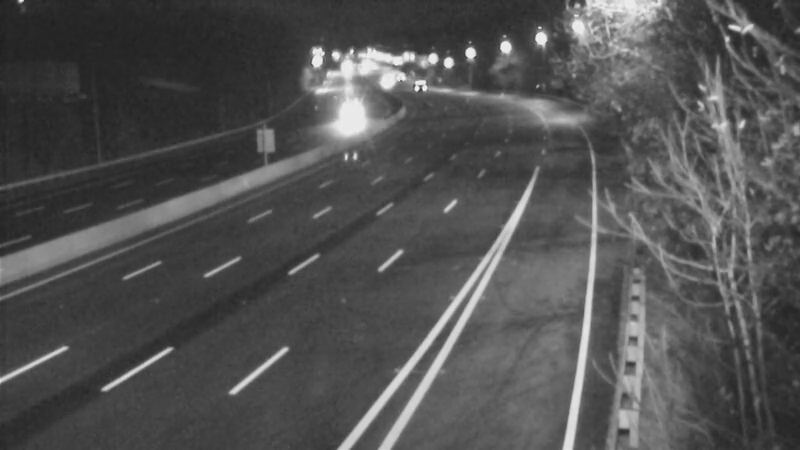vehicle: (391, 59, 441, 109), (361, 57, 411, 107), (325, 94, 375, 144)
